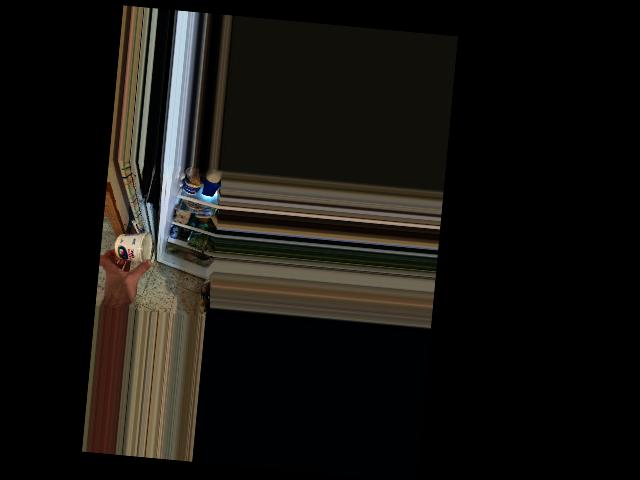cotage: (112, 236, 146, 263)
